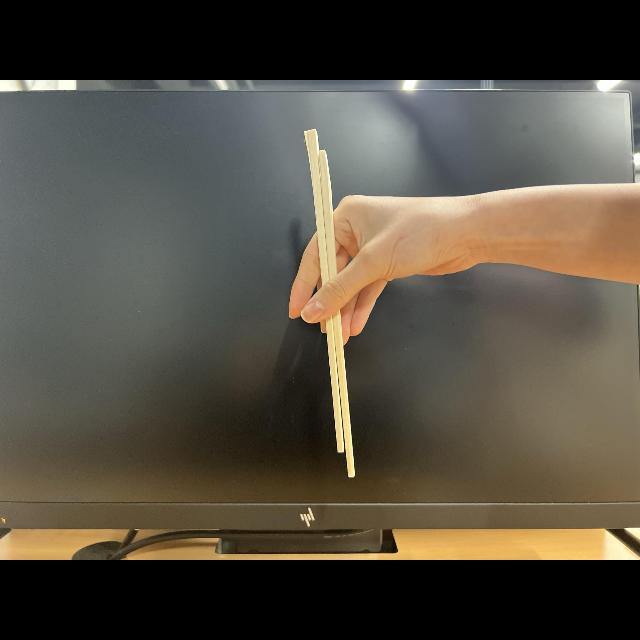stick: (306, 126, 394, 480)
